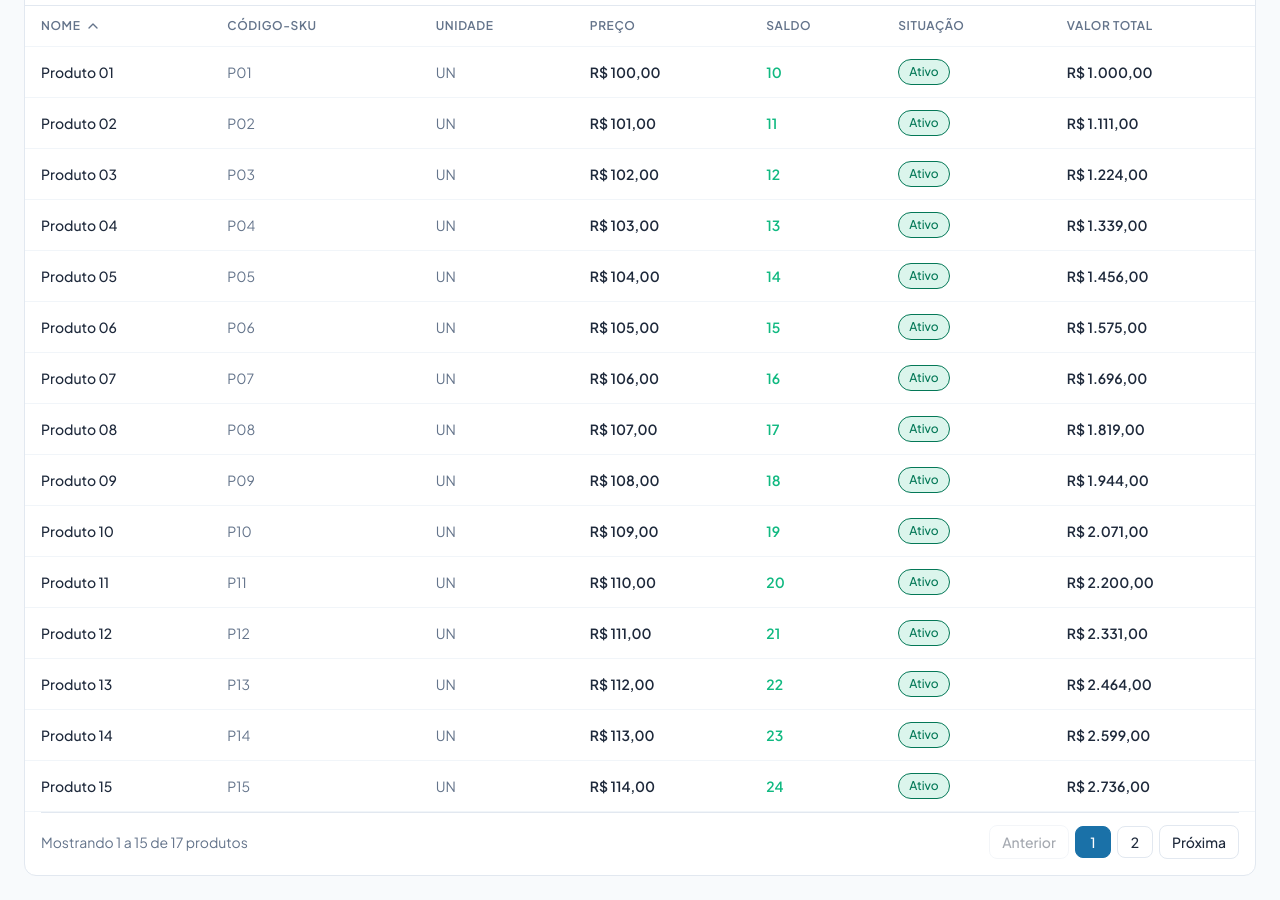
Test: paginacao em Estoque › Proximo leva a segunda pagina, que tem o resto
(page scrolled)
Click the button "Próxima" at (1199, 842), box [1159,825,1239,859]
(page scrolled)
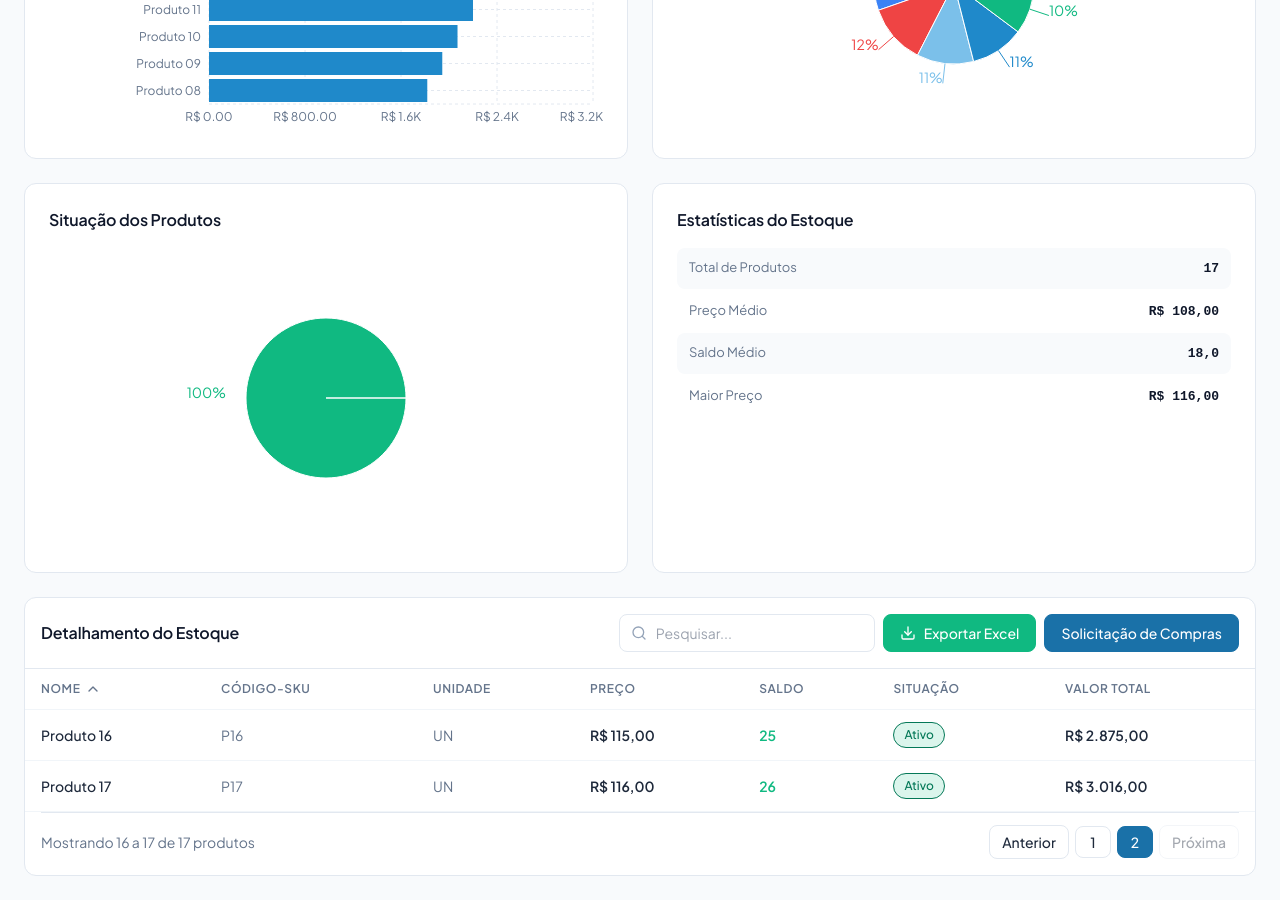
Check: the text "Mostrando 16 a 17 de 17 produtos" is shown, box [41,832,255,852]
